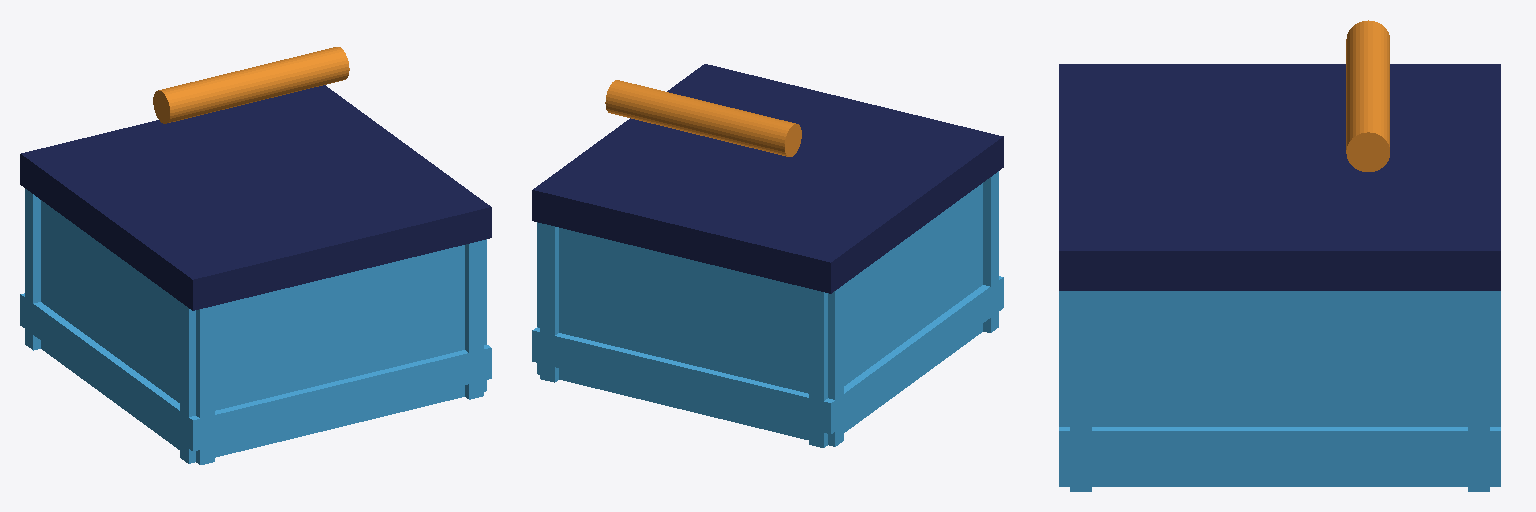
URDF robot description (bowl.urdf):
<?xml version="0.0" ?>
<robot name="bowl.urdf">

  <material name="yellow">
    <color rgba="1 1 0.4 1"/>
  </material>
  <material name="red">
    <color rgba="1 0 0 1"/>
  </material>
  <material name="blue">
    <color rgba=".17 .20 .38 1"/>
  </material>
  <material name="teal">
    <color rgba="0 .5 .5 1"/>
  </material>
  <material name="orange">
    <color rgba=".93 .6 .23 1"/>
  </material>

  <link name="world"/>

  <link name="base">
    <inertial>
      <origin rpy="0 0 0" xyz="0.0 0.0 0.0"/>
       <mass value=".1"/>
       <inertia ixx="1" ixy="0" ixz="0" iyy="1" iyz="0" izz="1"/>
    </inertial>
    <!-- <visual>
      <origin rpy="0 0 0" xyz="0 0 0"/>
      <geometry>
        <box size="1 1 0.5"/> -->
        <!-- <mesh filename="roboverse/envs/assets/objects/box/box.dae" scale="[phone redacted]"/> -->
      <!-- </geometry>
      <material name="teal"/>
    </visual> -->
    <visual>
      <!-- bottom -->
      <origin rpy="0 0 0" xyz="0 0 -0.15"/>
      <geometry>
        <box size="1 1 .1"/>
      </geometry>
    </visual>
    <visual>
      <!-- right -->
      <origin rpy="0 0 0" xyz="0 -.45 0"/>
      <geometry>
        <box size="1 .05 .5"/>
      </geometry>
    </visual>
    <visual>
      <!-- left -->
      <origin rpy="0 0 0" xyz="0 .45 0"/>
      <geometry>
        <box size="1 .05 .5"/>
      </geometry>
    </visual>
    <visual>
      <!-- front -->
      <origin rpy="0 0 0" xyz=".45 0 0"/>
      <geometry>
        <box size=".05 1 .5"/>
      </geometry>
    </visual>
    <visual>
      <!-- back -->
      <origin rpy="0 0 0" xyz="-.45 0 0"/>
      <geometry>
        <box size=".05 1 .5"/>
      </geometry>
    </visual>
    <collision>
      <origin rpy="0 0 0" xyz="0 0 -.3"/>
      <geometry>
        <box size="1.2 1.2 .1"/>
      </geometry>
    </collision>
    <collision>
      <!-- right -->
      <origin rpy="0 0 0" xyz="0 -.45 0"/>
      <geometry>
        <box size="1 .05 .5"/>
      </geometry>
    </collision>
    <collision>
      <!-- left -->
      <origin rpy="0 0 0" xyz="0 .45 0"/>
      <geometry>
        <box size="1 .05 .5"/>
      </geometry>
    </collision>
    <collision>
      <!-- front -->
      <origin rpy="0 0 0" xyz=".45 0 0"/>
      <geometry>
        <box size=".05 1 .5"/>
      </geometry>
    </collision>
    <collision>
      <!-- back -->
      <origin rpy="0 0 0" xyz="-.45 0 0"/>
      <geometry>
        <box size=".05 1 .5"/>
      </geometry>
    </collision>
  </link>

  <link name="lid">
    <lateral_friction value="1.0"/>
    <rolling_friction value="0.0"/>
    <contact_cfm value="0.0"/>
    <contact_erp value="1.0"/>
    <inertial>
      <origin rpy="0 0 0" xyz="-0.5 -0.5 0"/>
      <mass value=".25"/>
      <inertia ixx="1" ixy="0" ixz="0" iyy="1" iyz="0" izz="1"/>
    </inertial>
    <visual>
      <origin rpy="0 0 0" xyz="-0.5 -0.5 0"/>
      <geometry>
        <box size="1 1 .1"/>
      </geometry>
      <material name="blue"/>
    </visual>
    <collision>
      <origin rpy="0 0 0" xyz="-0.5 -0.5 0"/>
      <geometry>
        <box size="1 1 .1"/>
      </geometry>
    </collision>
  </link>

  <link name="handle_r">
    <!-- <lateral_friction value="1.0"/>
    <rolling_friction value="0.0"/>
    <contact_cfm value="0.0"/>
    <contact_erp value="1.0"/> -->
    <inertial>
      <origin rpy="0 1.57 0" xyz="0.4 -0.3 0.35"/>
      <mass value=".1"/>
      <inertia ixx="1" ixy="0" ixz="0" iyy="1" iyz="0" izz="1"/>
    </inertial>
    <visual>
      <origin rpy="0 1.57 0" xyz="0.4 -0.3 0.35"/>
      <geometry>
        <!-- <box size="0.5 0.1 .2"/> -->
        <cylinder radius="0.05" length="0.6"/>
      </geometry>
      <!-- <origin rpy="" xyz=""/>
      <geometry>
        dd
      </geometry> -->
      <material name="orange"/>
    </visual>
    <collision>
      <origin rpy="0 1.57 0" xyz="0.4 -0.3 0.35"/>
      <geometry>
        <!-- <box size="0.5 0.1 .2"/> -->
        <cylinder radius="0.05" length="0.6"/>
      </geometry>
      <contact_coefficients mu="100.0" kp="0.01" kd="2"/>
    </collision>
  </link>

  <joint name="base_joint" type="fixed">
    <parent link="world"/>
    <child link="base"/>
  </joint>

  <joint name="lid_joint" type="revolute">
    <origin rpy="0 0 0" xyz="0.5 0.5 0.3"/>
    <parent link="base"/>
    <child link="lid"/>
    <axis rpy="0 0 0" xyz="1 0 0"/>
    <limit effort="100" lower="-3" upper="0" velocity="100"/>
  </joint>

  <joint name="handle_r_joint" type="fixed">
    <origin rpy="0 0 0" xyz="-0.8 0 -0.1"/>
    <parent link="lid"/>
    <child link="handle_r"/>
  </joint>

</robot>

--- Facts derived from the render (not from the file) ---
Views: 3 orthographic renders of the robot side by side, from view 1: azimuth 30°, elevation 25°; view 2: azimuth 150°, elevation 25°; view 3: azimuth 270°, elevation 25°.
Robot: bowl.urdf — 4 links, 3 joints (1 revolute, 2 fixed); root link world; default pose: all joints at 0.
Visible links, largest first — view 1: base, lid, handle_r; view 2: base, lid, handle_r; view 3: lid, base, handle_r.
Link boxes in pixels (x1,y1,x2,y2): base: (20, 189, 491, 464); lid: (20, 85, 491, 310); handle_r: (153, 47, 349, 123); base: (532, 171, 1003, 447); lid: (532, 64, 1003, 293); handle_r: (605, 80, 801, 156); lid: (1059, 64, 1500, 290); base: (1059, 291, 1500, 491); handle_r: (1346, 20, 1389, 171).
Bounding box of the posed robot: 1 × 1 × 0.8502 m (x, y, z).
Geometry: primitives only (box / cylinder / sphere), no mesh files.